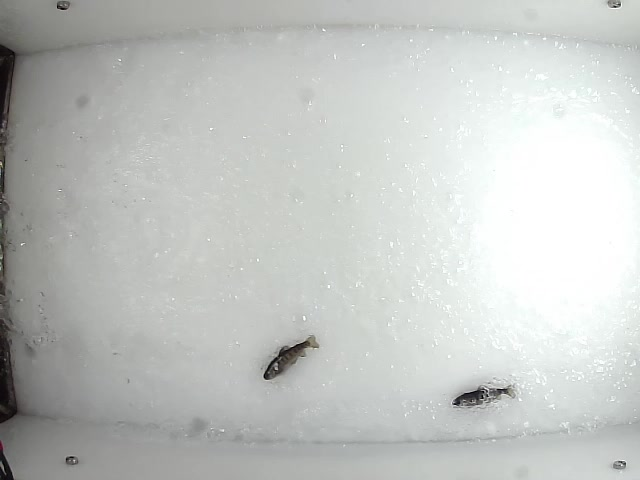fish: (260, 332, 321, 382), (449, 379, 519, 410)
